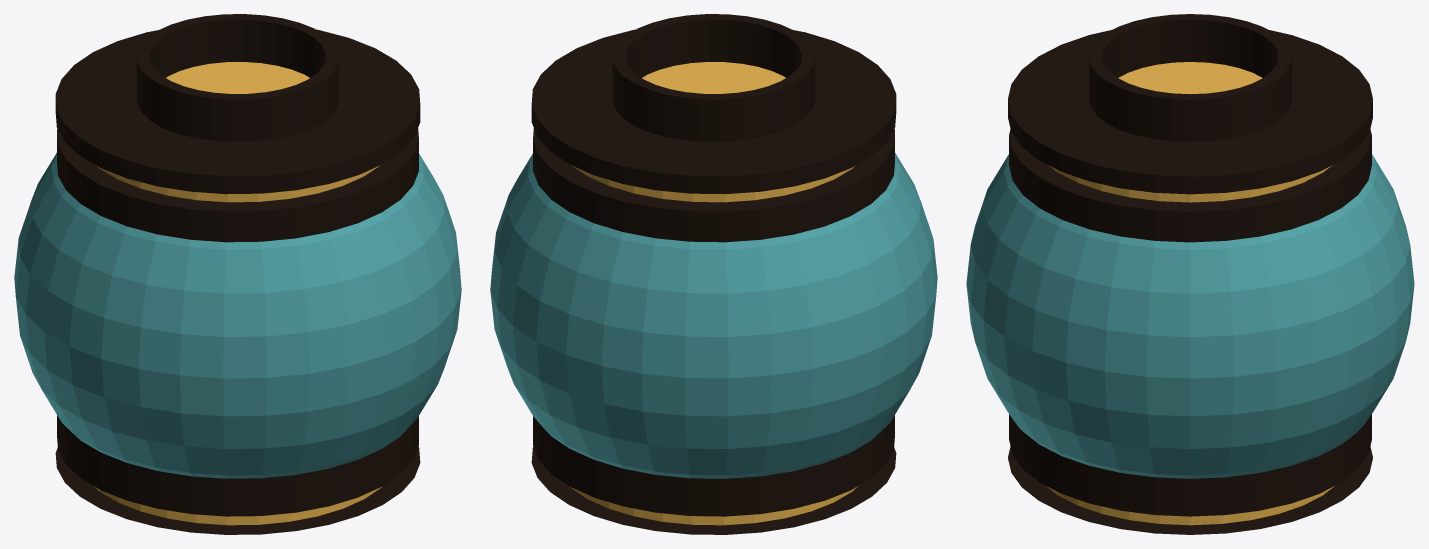
File: pod_pit_1.glb
3 views of the same model, side by side, from view 1: azimuth 30°, elevation 25°; view 2: azimuth 150°, elevation 25°; view 3: azimuth 270°, elevation 25° (orthographic).
Parts seen in each view (by area): view 1: Sphere, pod_engine_1; view 2: Sphere, pod_engine_1; view 3: Sphere, pod_engine_1.
Part boxes in pixels (left/top/right/bottom): Sphere: left=14, top=153, right=461, bottom=478; pod_engine_1: left=55, top=14, right=420, bottom=534; Sphere: left=490, top=153, right=937, bottom=478; pod_engine_1: left=531, top=14, right=896, bottom=534; Sphere: left=966, top=154, right=1414, bottom=478; pod_engine_1: left=1008, top=14, right=1372, bottom=534.
Bounding box in the file's own units: 2.45 × 2.61 × 2.45.
1 material, 1 textured.
